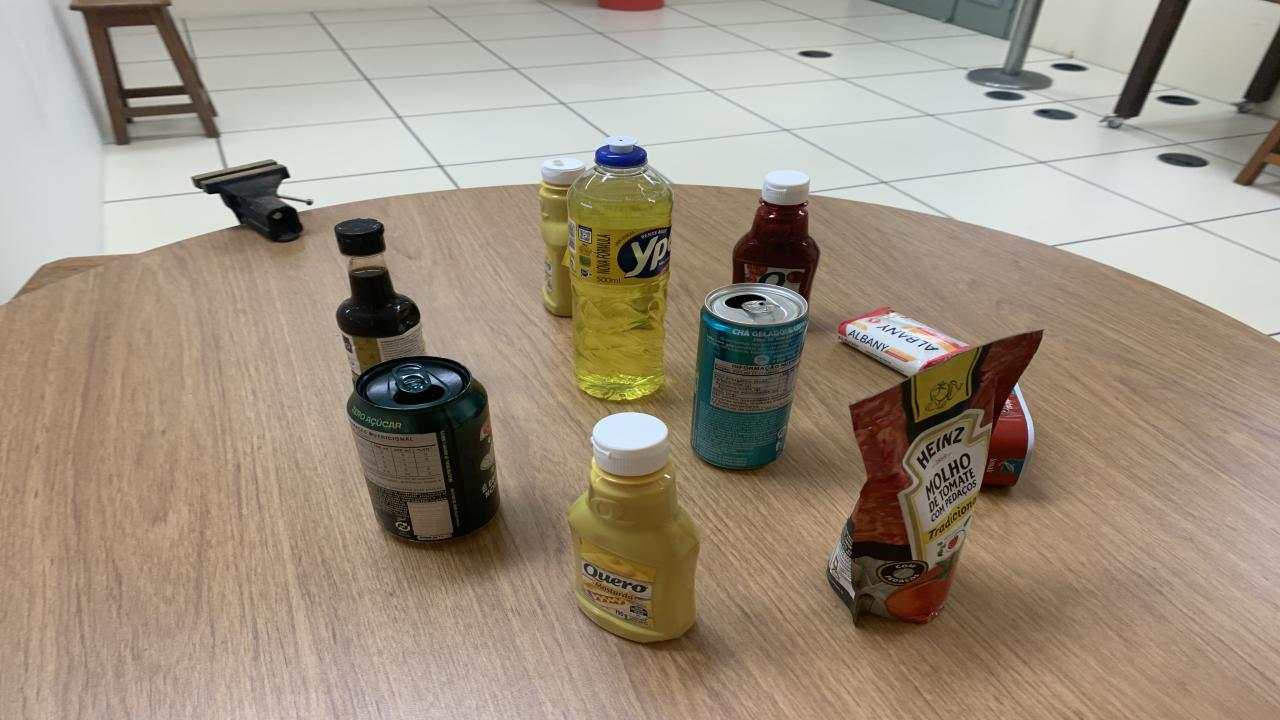Detergent-Cleanup_Items: (568, 137, 672, 399)
English_Sauce-Pantry_Items: (335, 218, 425, 379)
Guarana_Can-Drinks: (348, 356, 500, 542)
Ketchup-Pantry_Items: (732, 171, 820, 300)
Mustard-Pantry_Items: (568, 412, 700, 643), (540, 158, 585, 317)
Soap-Cleanup_Items: (838, 308, 970, 377)
Tea-Drinks: (690, 283, 808, 469)
Tomato_Sauce-Pantry_Items: (828, 332, 1042, 622)
Tuna_Can-Pantry_Items: (982, 386, 1035, 486)
